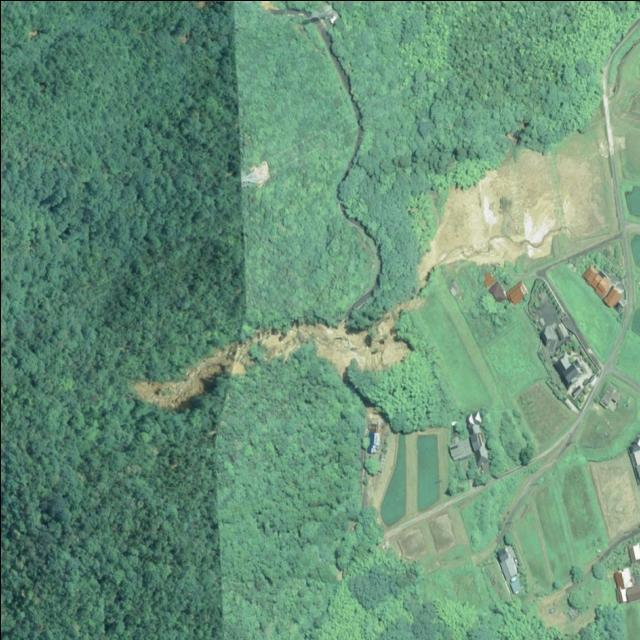landslide: (417, 21, 640, 286), (135, 297, 424, 408)
